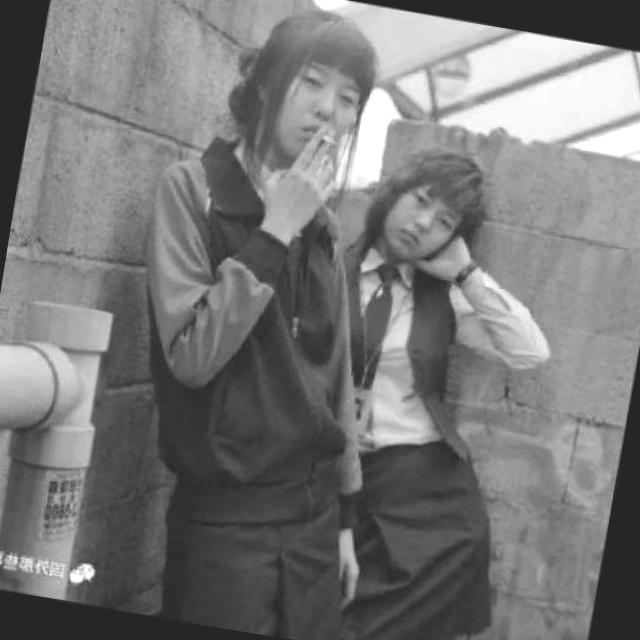smoke: (316, 130, 338, 148)
